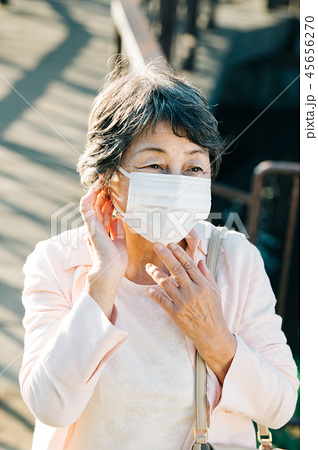mask: (119, 172, 223, 255)
